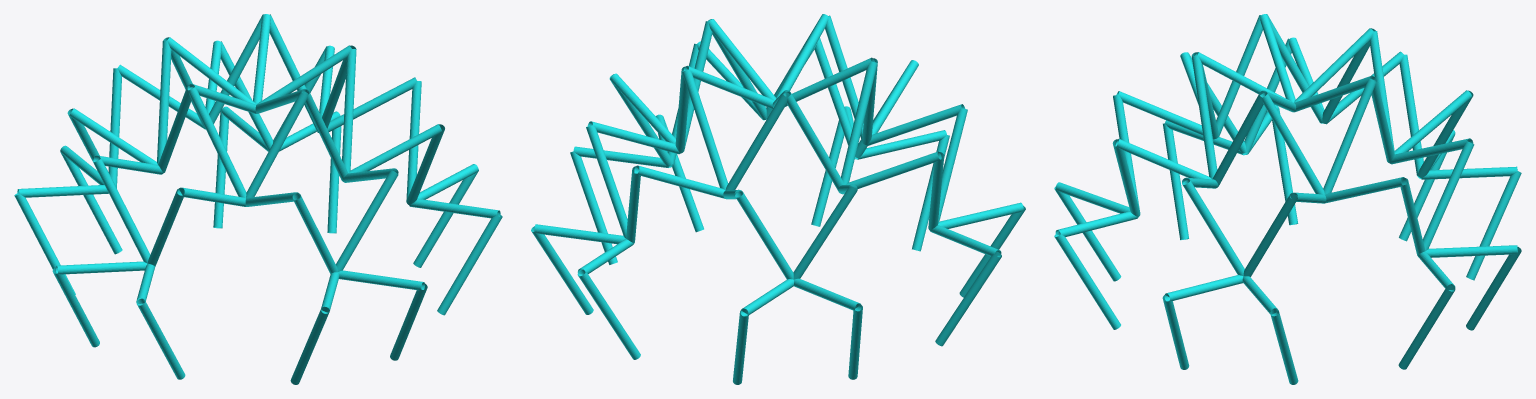
File: trinexus3_2a.glb
The picture shows the model from 3 angles, left to right: view 1: azimuth 30°, elevation 25°; view 2: azimuth 150°, elevation 25°; view 3: azimuth 270°, elevation 25°; orthographic projection.
Visible parts, largest first — view 1: Mesh_53.001; view 2: Mesh_53.001; view 3: Mesh_53.001.
Boxes of the visible parts, <box> form: Mesh_53.001: <box>14,14,502,384</box>; Mesh_53.001: <box>531,14,1025,384</box>; Mesh_53.001: <box>1054,14,1521,384</box>.
Bounding box in the file's own units: 6.42 × 3.65 × 6.11.
